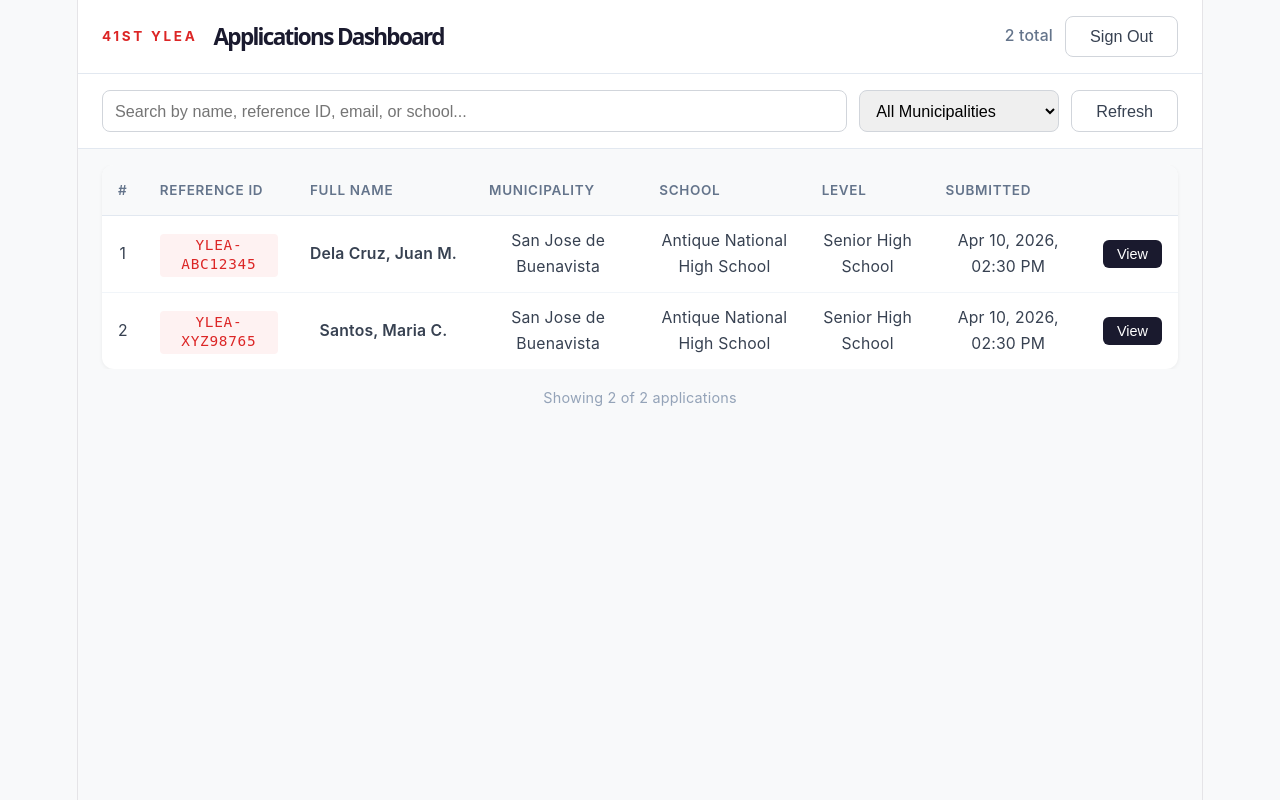
Test: O. Admin Dashboard › O8 — Search by name filters table
This screenshot has width=1280, height=800.
Expected: the heading "Applications Dashboard" is shown, x1=214 y1=24 x2=444 y2=51
Expected: the text "Dela Cruz, Juan M." is shown, x1=294 y1=216 x2=473 y2=293
Type "zzzznonexistent" into the field with placeholder "Search by name, reference ID, email, or school...".
click(475, 111); type("zzzznonexistent")  # box x1=102 y1=90 x2=847 y2=132
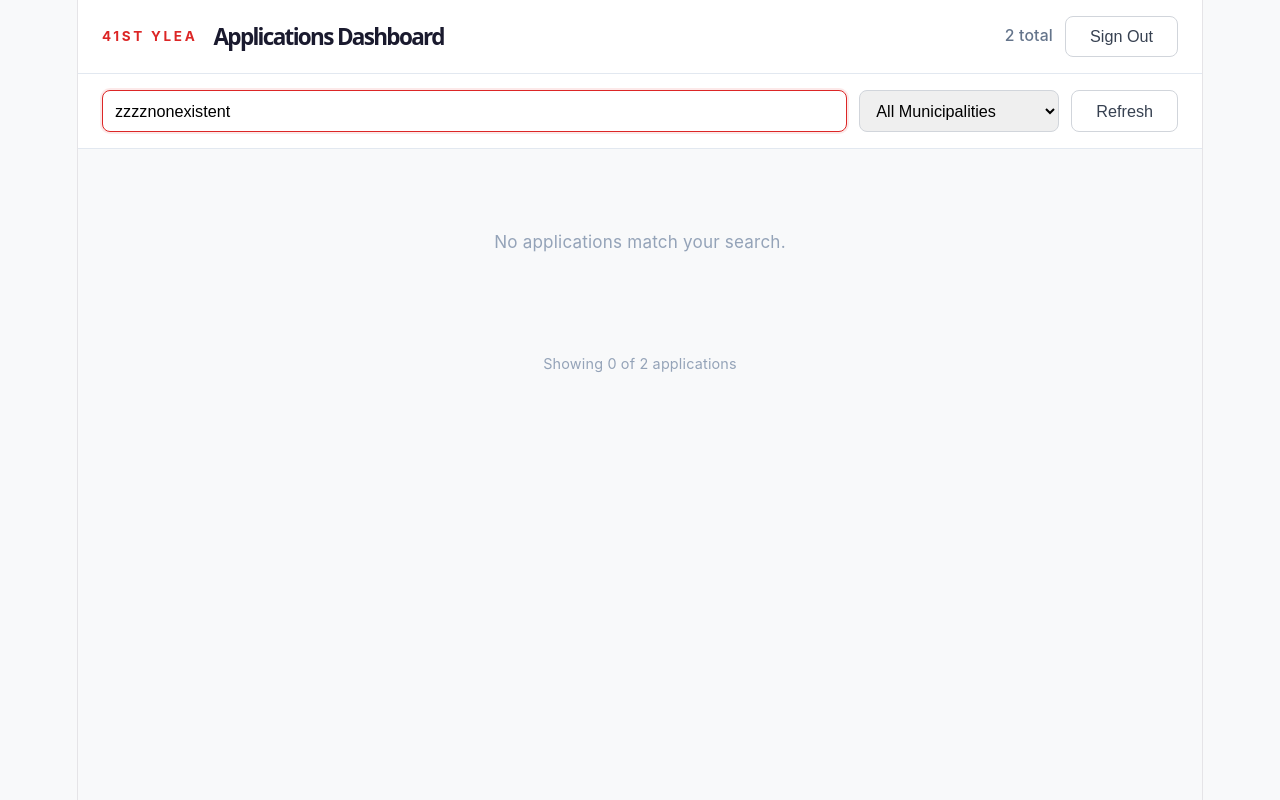
Expected: the text "Dela Cruz, Juan M." is gone
Expected: the text "No applications match your search." is shown, x1=494 y1=231 x2=786 y2=252
